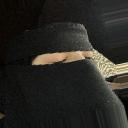hijab: (1, 1, 128, 128)
